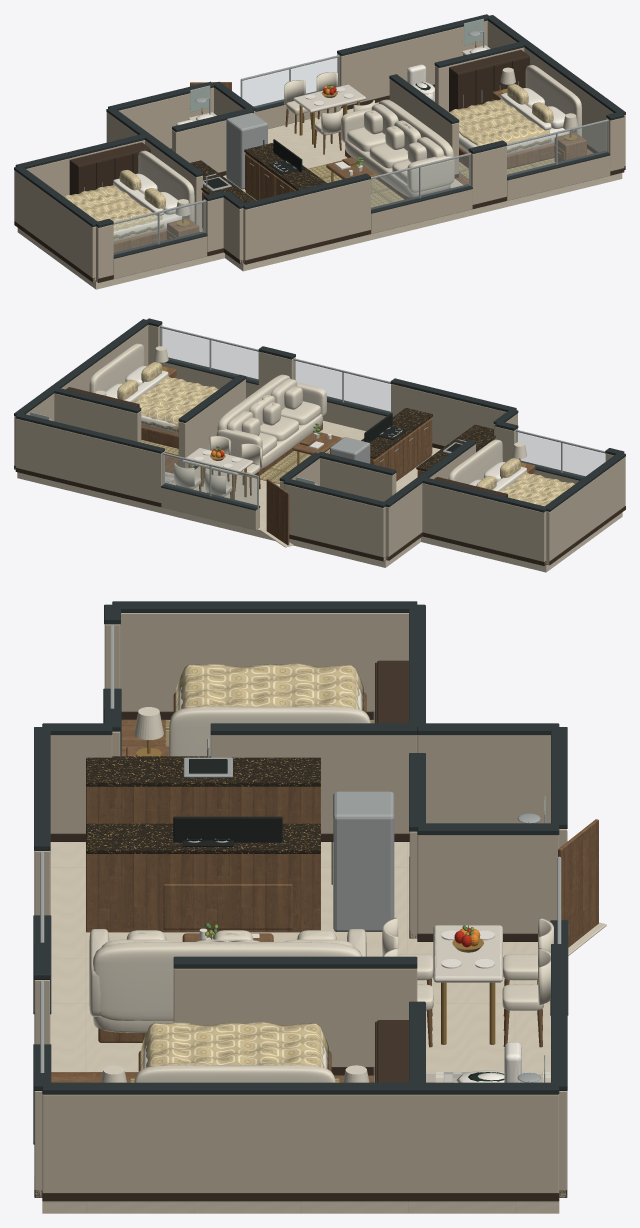
The model's file is aristo-03.glb.
3 renders of one model, top to bottom at view 1: azimuth 30°, elevation 25°; view 2: azimuth 150°, elevation 25°; view 3: azimuth 270°, elevation 25°, orthographic. The views are drawn at different scales.
Parts seen in each view (by area): view 1: Ivory masonry.008, Apartment foundation, Ivory masonry, Ivory masonry.004, Cutaway window glazing.001, Soft jacquard duvet with folds.003, Cutaway window glazing.002, Cutaway window glazing.003, Soft jacquard duvet with folds.004, Ivory masonry.011, Window sill.001, Ivory masonry.001 (+68 smaller); view 2: Ivory masonry, Ivory masonry.003, Apartment foundation, Ivory masonry.001, Ivory masonry.004, Ivory masonry.008, Cutaway window glazing.001, Cutaway window glazing, Ivory masonry.012, Cutaway window glazing.002, Soft jacquard duvet with folds.003, Cutaway window glazing.003 (+57 smaller); view 3: Ivory masonry.011, Apartment foundation, Ivory masonry.004, Ivory masonry.013, Ivory masonry.014, Kitchen cabinetry, Ivory masonry.002, Ivory masonry.016, Sofa back.001, Brushed refrigerator, Kitchen cabinetry.001, Soft jacquard duvet with folds.004 (+36 smaller).
Part boxes in pixels (x1,y1,x2,y2): Ivory masonry.008: (243, 179, 370, 263); Apartment foundation: (17, 108, 622, 289); Ivory masonry: (337, 20, 487, 106); Ivory masonry.004: (14, 170, 96, 281); Cutaway window glazing.001: (507, 122, 607, 176); Soft jacquard duvet with folds.003: (449, 99, 551, 152); Cutaway window glazing.002: (371, 156, 469, 209); Cutaway window glazing.003: (114, 203, 204, 254); Soft jacquard duvet with folds.004: (64, 184, 163, 238); Ivory masonry.011: (487, 21, 625, 166); Window sill.001: (507, 155, 610, 200); Ivory masonry.001: (118, 87, 213, 148); Ivory masonry: (15, 418, 164, 502); Ivory masonry.003: (422, 483, 546, 564); Apartment foundation: (17, 420, 622, 572); Ivory masonry.001: (284, 484, 385, 560); Ivory masonry.004: (546, 457, 625, 565); Ivory masonry.008: (391, 384, 506, 445); Cutaway window glazing.001: (161, 328, 258, 380); Cutaway window glazing: (164, 455, 256, 506); Ivory masonry.012: (54, 393, 141, 442); Cutaway window glazing.002: (294, 361, 390, 413); Soft jacquard duvet with folds.003: (133, 376, 218, 433); Cutaway window glazing.003: (517, 432, 605, 477); Ivory masonry.011: (42, 1094, 559, 1192); Apartment foundation: (42, 842, 559, 1213); Ivory masonry.004: (120, 613, 408, 711); Ivory masonry.013: (173, 968, 417, 1066); Ivory masonry.014: (417, 835, 559, 933); Kitchen cabinetry: (86, 853, 320, 932); Ivory masonry.002: (417, 735, 550, 823); Ivory masonry.016: (210, 735, 417, 833); Sofa back.001: (93, 942, 361, 1020); Brushed refrigerator: (333, 791, 394, 931); Kitchen cabinetry.001: (86, 786, 320, 823); Soft jacquard duvet with folds.004: (176, 663, 363, 710).
Size of the model in its own units: 10.78 by 1.37 by 5.35.
24 materials, 6 textured.
